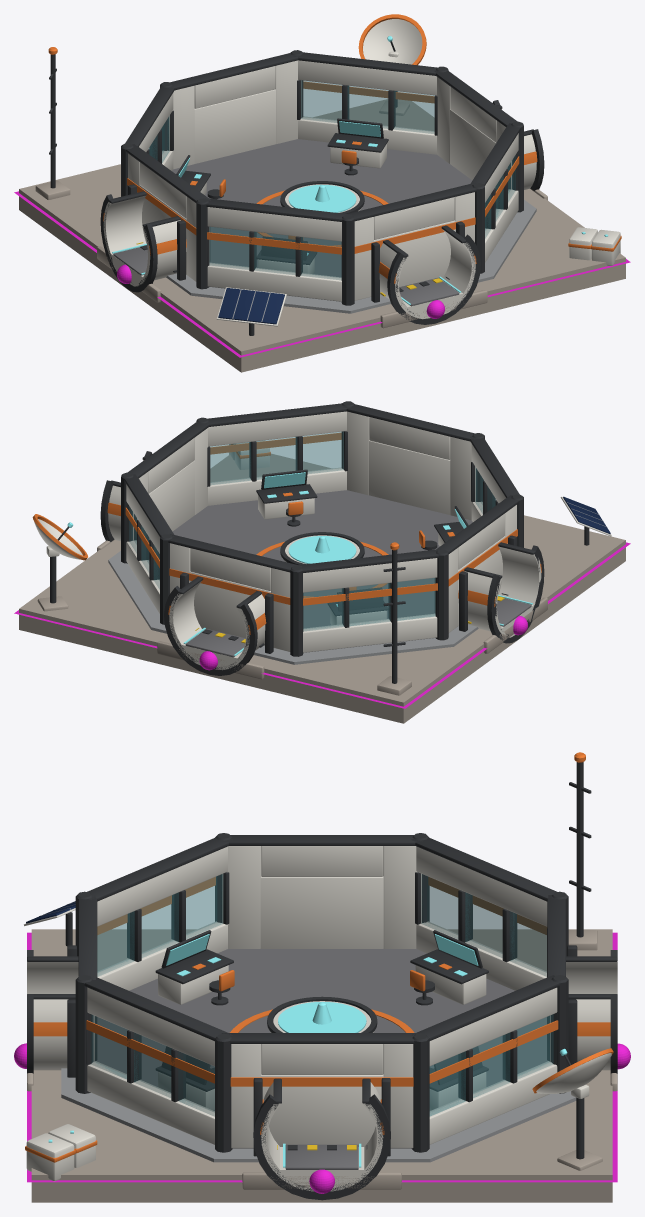
File: control_room_cut.gltf
3 renders of one model, top to bottom at view 1: azimuth 30°, elevation 25°; view 2: azimuth 150°, elevation 25°; view 3: azimuth 270°, elevation 25°, orthographic. The views are drawn at different scales.
Visible parts, largest first — view 1: ControlRoom, %V%AnchorIn+, %V%AnchorIn.001+, %V%AnchorIn.002-, %V%AnchorIn-, %V%AnchorIn.003-, %P%Footprint, %V%AnchorIn.003+, %V%AnchorIn.001-; view 2: ControlRoom, %V%AnchorIn.002+, %V%AnchorIn.001+, %V%AnchorIn-, %V%AnchorIn.002-, %V%AnchorIn.003-, %P%Footprint, %V%AnchorIn.003+, %V%AnchorIn.001-; view 3: ControlRoom, %V%AnchorIn.003+, %V%AnchorIn.001-, %V%AnchorIn.003-, %V%AnchorIn+, %V%AnchorIn.002+, %P%Footprint.
Part boxes in pixels (x1,y1,x2,y2): ControlRoom: (19, 14, 625, 372); %V%AnchorIn+: (371, 221, 487, 328); %V%AnchorIn.001+: (97, 184, 186, 302); %V%AnchorIn.002-: (194, 89, 275, 163); %V%AnchorIn-: (374, 220, 455, 294); %V%AnchorIn.003-: (450, 109, 495, 188); %P%Footprint: (14, 191, 630, 357); %V%AnchorIn.003+: (492, 100, 547, 200); %V%AnchorIn.001-: (138, 185, 186, 274); ControlRoom: (19, 401, 625, 723); %V%AnchorIn.002+: (157, 572, 273, 679); %V%AnchorIn.001+: (458, 535, 547, 653); %V%AnchorIn-: (369, 440, 450, 514); %V%AnchorIn.002-: (189, 571, 270, 645); %V%AnchorIn.003-: (149, 460, 194, 539); %P%Footprint: (14, 542, 630, 708); %V%AnchorIn.003+: (97, 451, 152, 551); %V%AnchorIn.001-: (458, 536, 506, 625); ControlRoom: (24, 752, 613, 1202); %V%AnchorIn.003+: (242, 1078, 401, 1200); %V%AnchorIn.001-: (260, 876, 383, 948); %V%AnchorIn.003-: (260, 1074, 383, 1146); %V%AnchorIn+: (27, 945, 78, 1091); %V%AnchorIn.002+: (566, 945, 617, 1091); %P%Footprint: (27, 932, 617, 1182).
Size of the model in its own units: 6.26 by 2.43 by 6.27.
